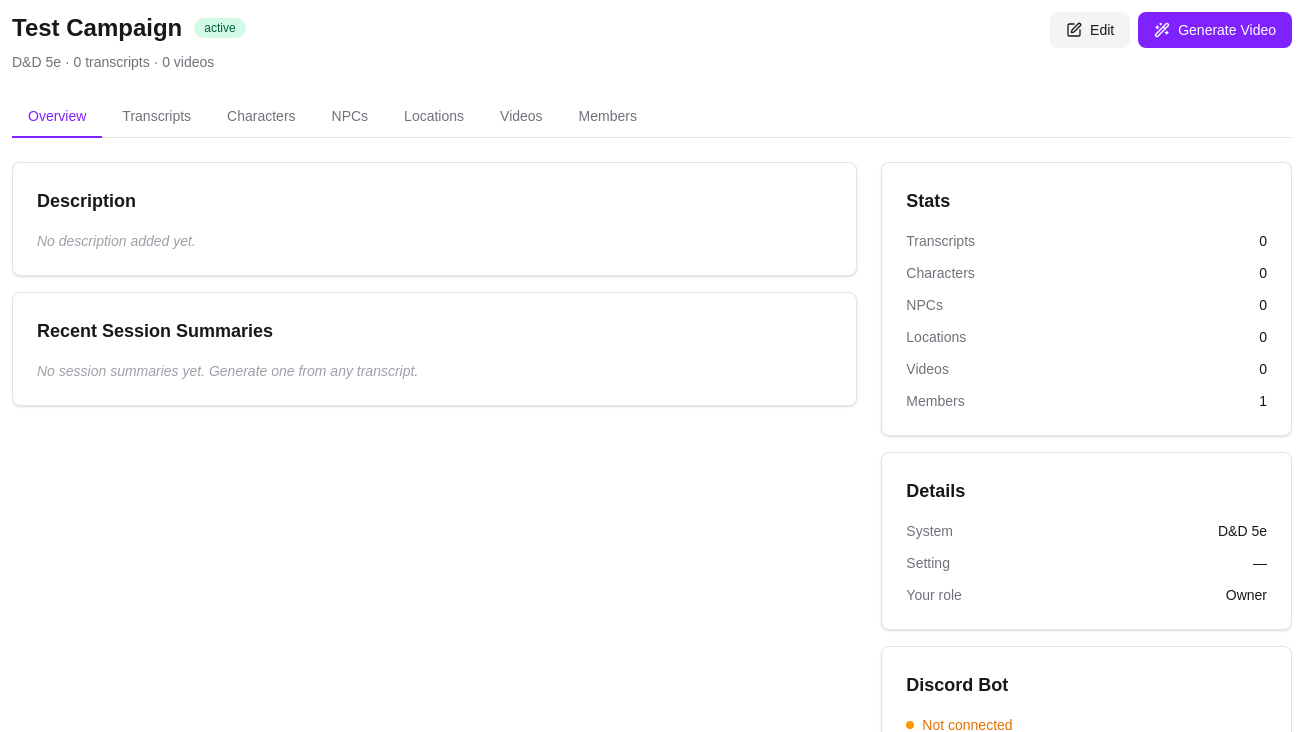
Test: CampaignDetailTabs — tab content › shows empty state on Locations tab when no locations exist
Step 1. Click the button "Locations" → x=434, y=117, box x1=388 y1=96 x2=480 y2=138
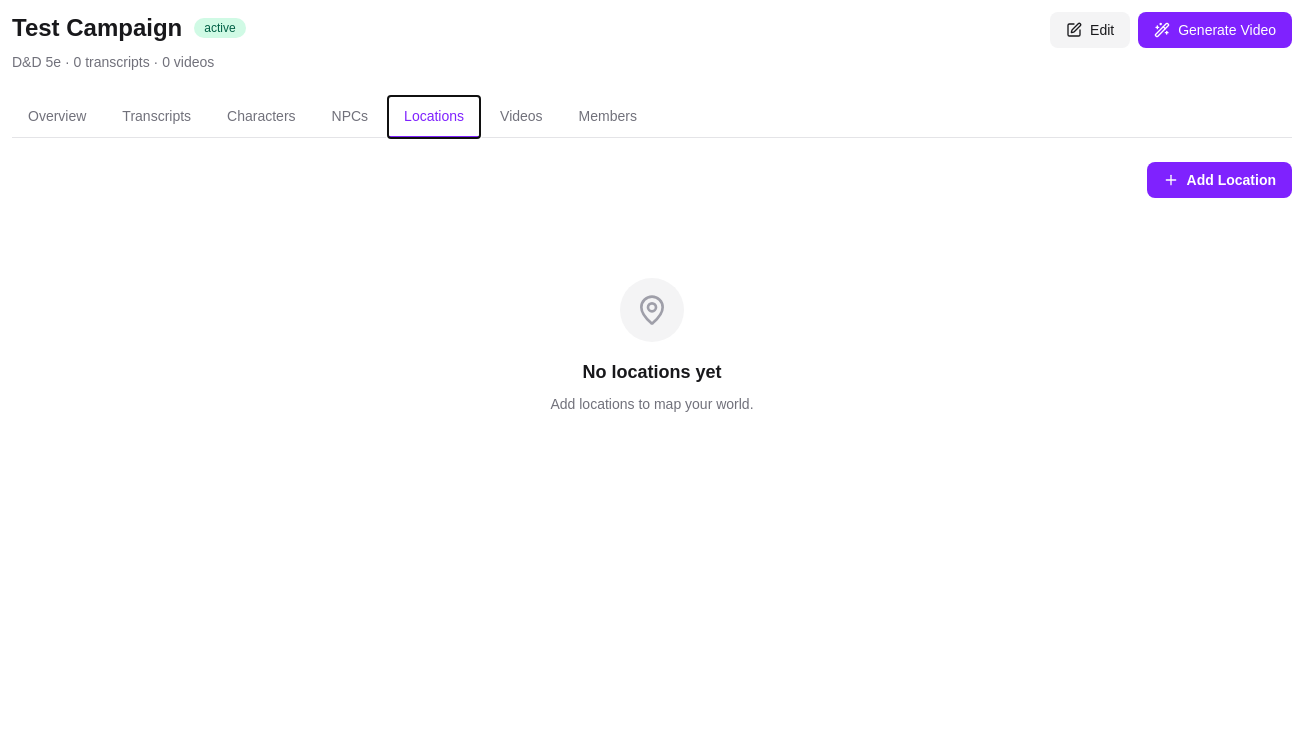
Expected: the heading "No locations yet" is shown, x1=582 y1=358 x2=722 y2=386
